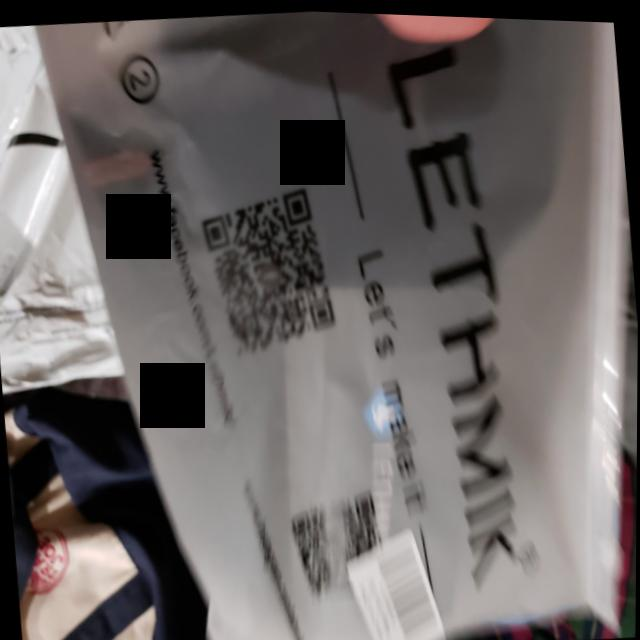QR_CODE: (187, 163, 354, 380), (279, 468, 398, 621)
